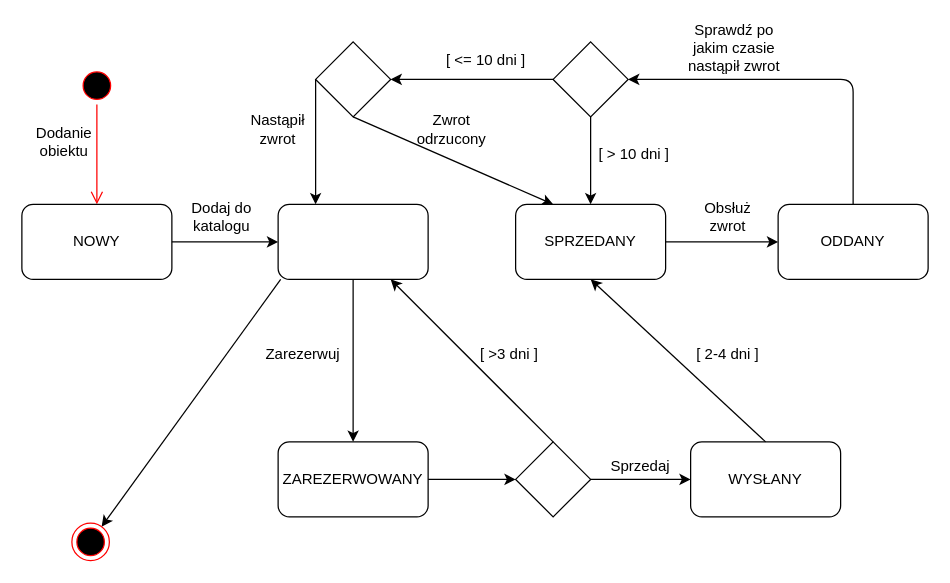
The diagram is 950 pixels wide and 583 high, and some of its shapes have lost their labels. The shapes that lost their labels are listed below. From the top down, each one's centre as x and y in pixels, then its label:
At (352,79): "Sprawdź obiekt".
At (352,241): "DOSTĘPNY".
